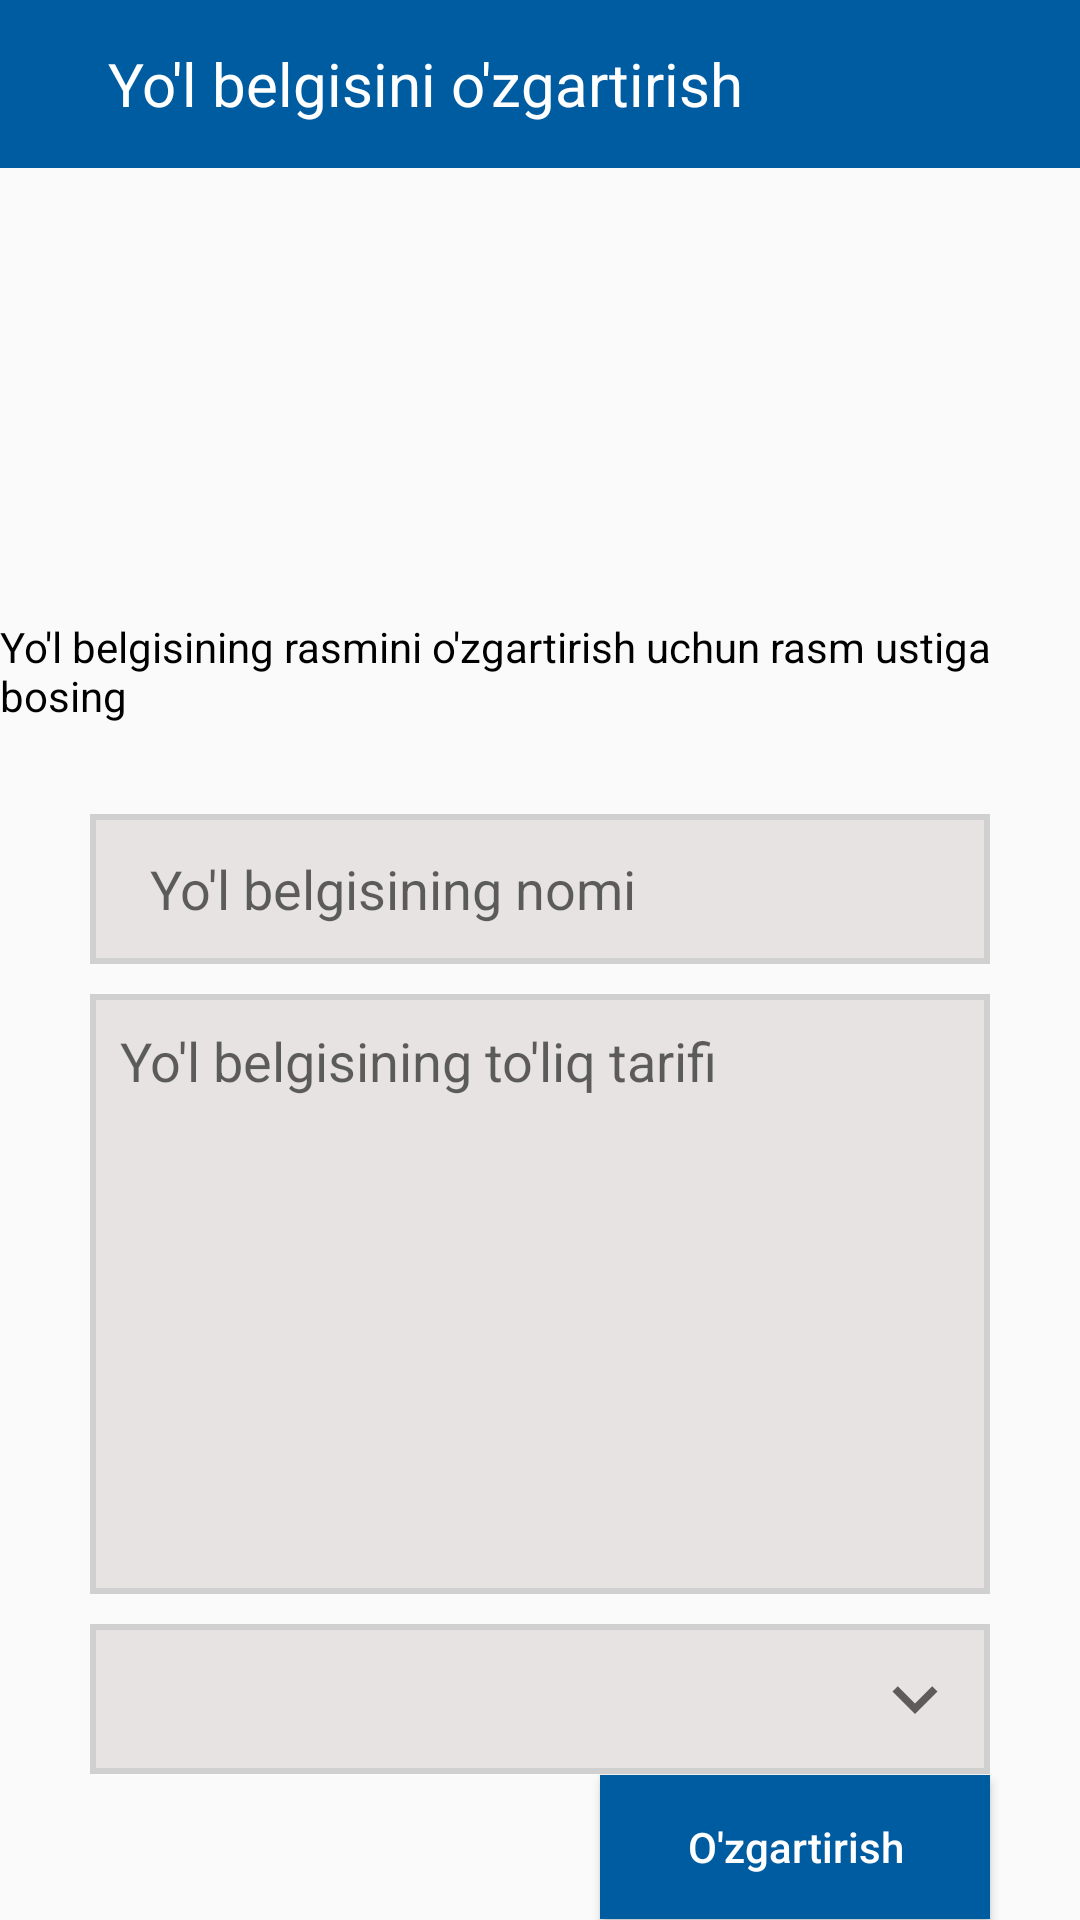

Named icons in this screenshot (1080w x 1920h) and their centers, point (x, y):
expand more: point (915, 1700)
